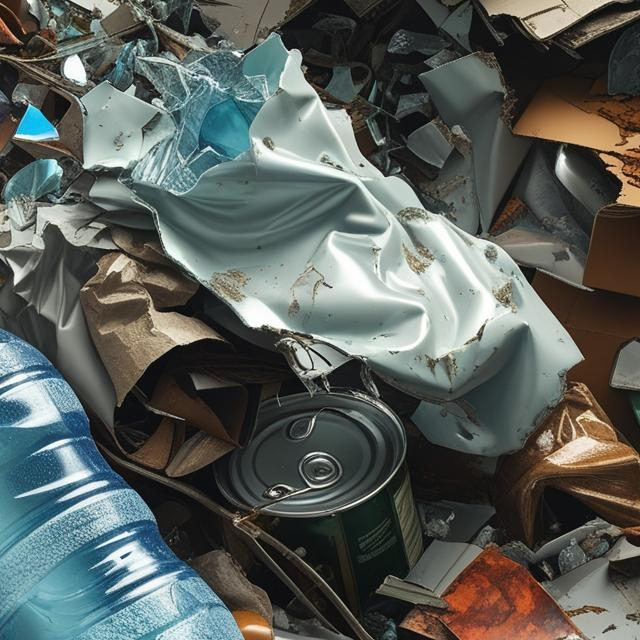plastic: (0, 258, 283, 640)
